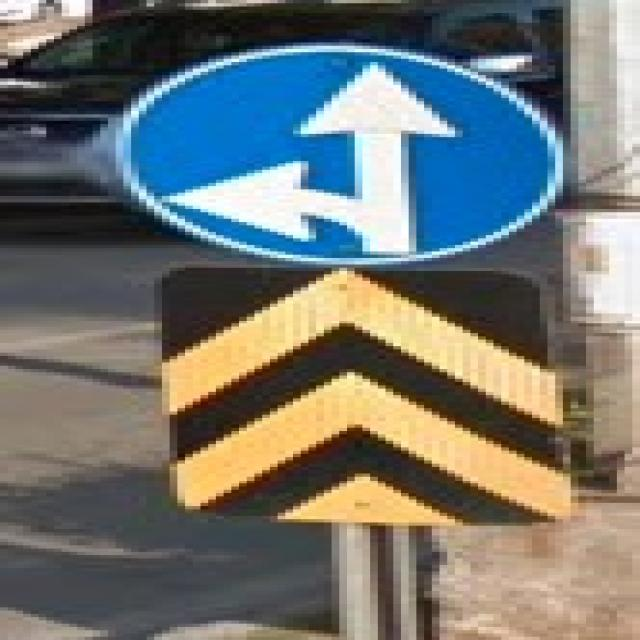Straight or Left: (121, 47, 568, 266)
